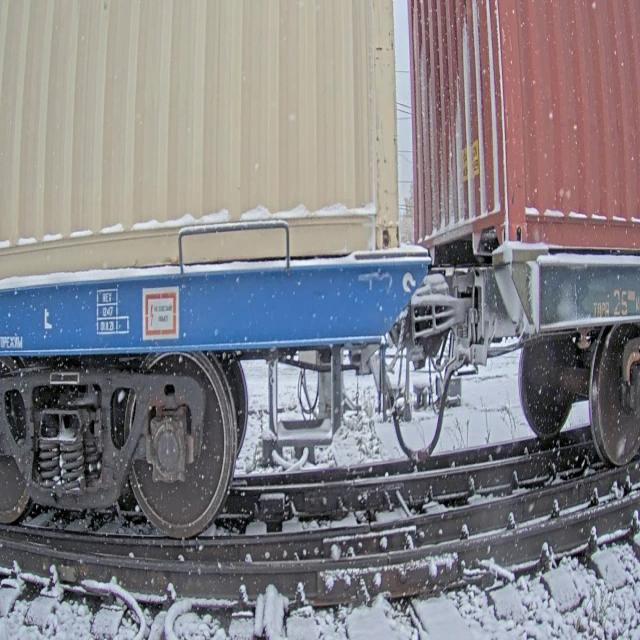container: (0, 0, 406, 283), (406, 0, 640, 256)
flatcar: (0, 246, 431, 542)
